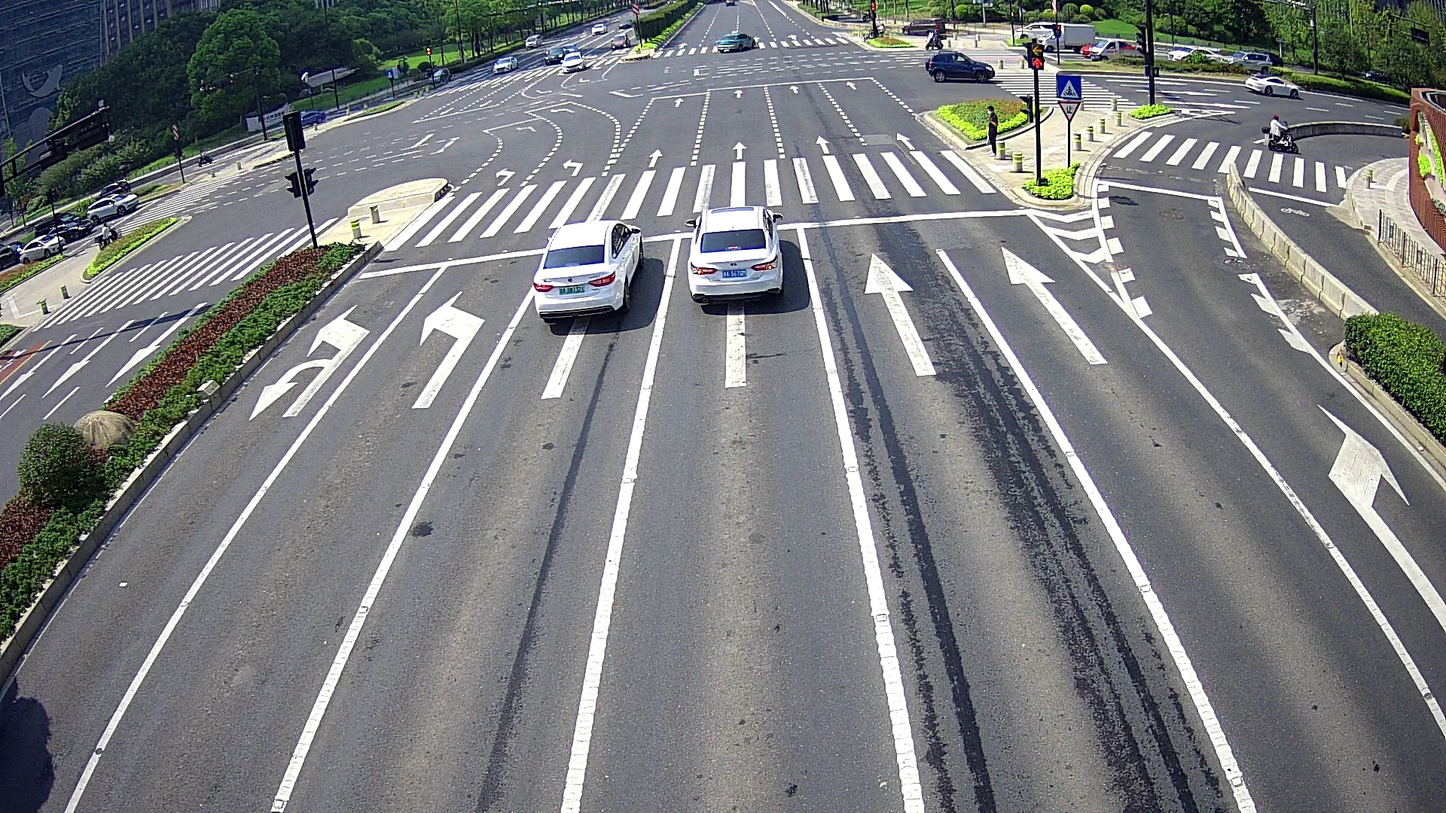person: (980, 102, 1002, 153)
vehicle: (529, 216, 643, 327), (679, 206, 784, 303), (920, 45, 999, 85), (711, 29, 754, 54), (561, 53, 586, 75)
